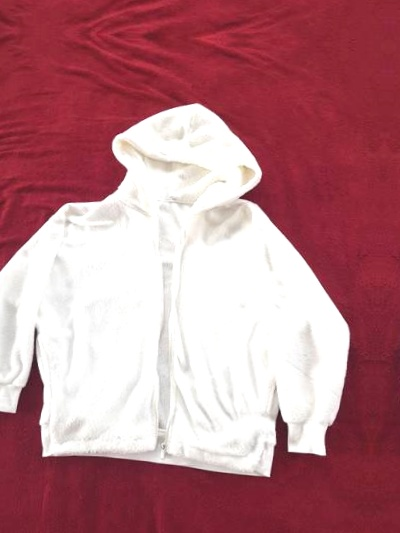Hoodie: (0, 82, 370, 490), (387, 100, 400, 508)
